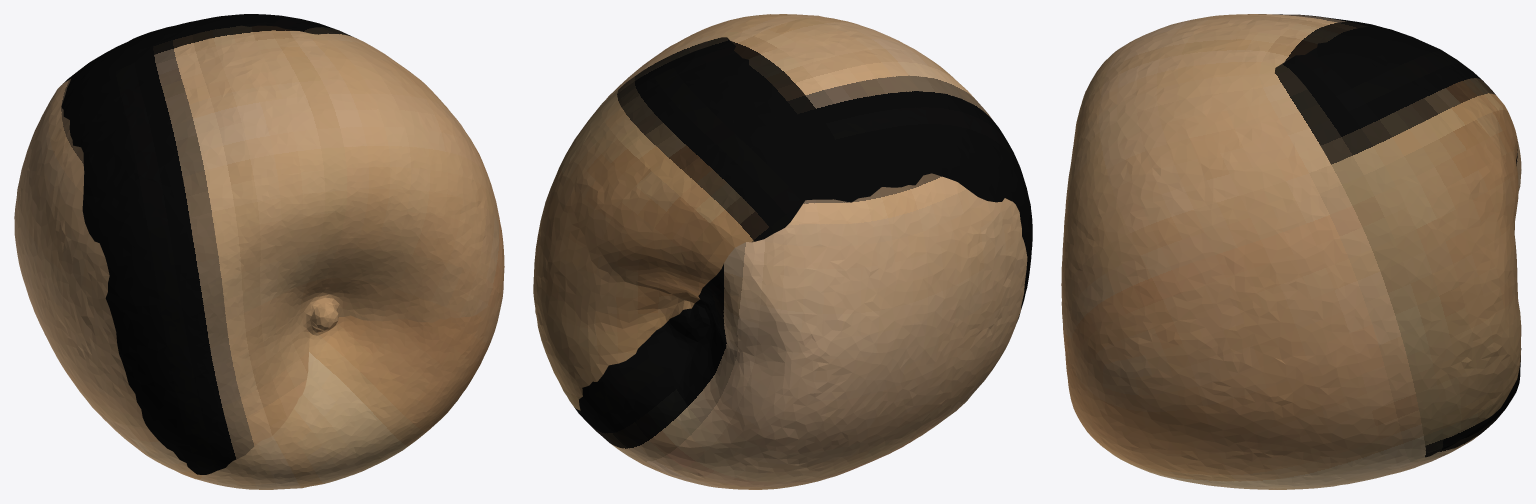
3 views of the same model, side by side, from view 1: azimuth 30°, elevation 25°; view 2: azimuth 150°, elevation 25°; view 3: azimuth 270°, elevation 25° (orthographic). The views are drawn at different scales.
Size of the model in its own units: 0.0754 by 0.0749 by 0.0719.
